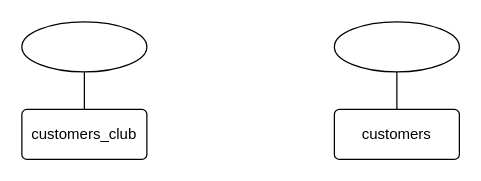
Image size: 481x181. Some labels were removed from this diagram. Each missing label, with the centre of its shape:
"scale" goes at point 84,46.
"spent_money" goes at point 396,46.
